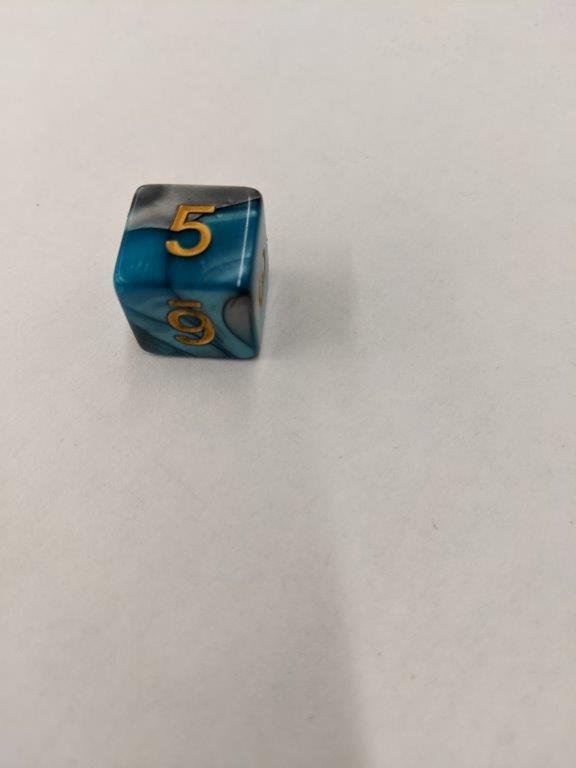d6-5: (111, 179, 270, 363)
